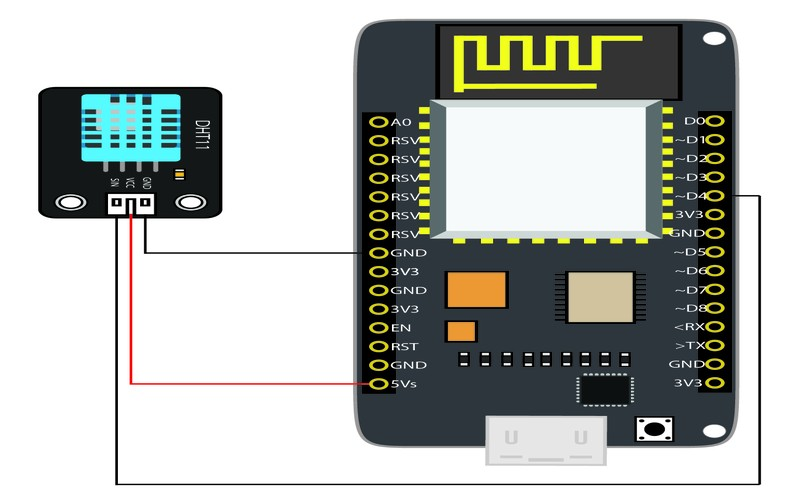IoT Sensor: (332, 14, 742, 464)
